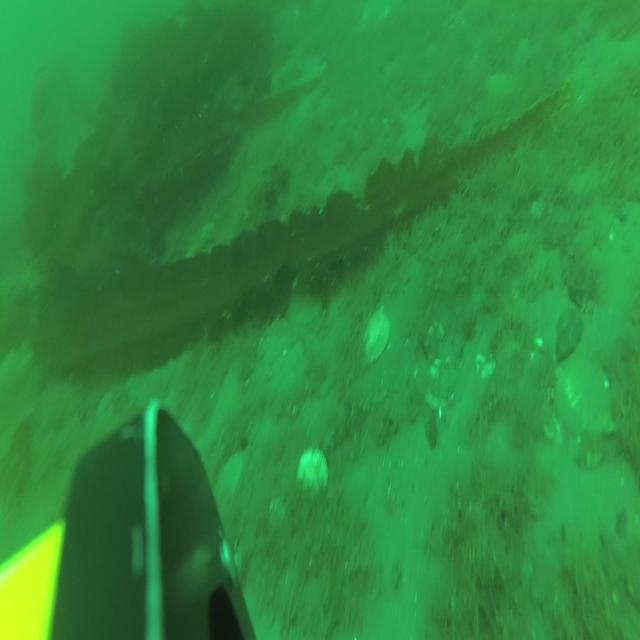scallop: (556, 358, 618, 441), (295, 447, 329, 495), (363, 308, 393, 361), (288, 290, 324, 328)
